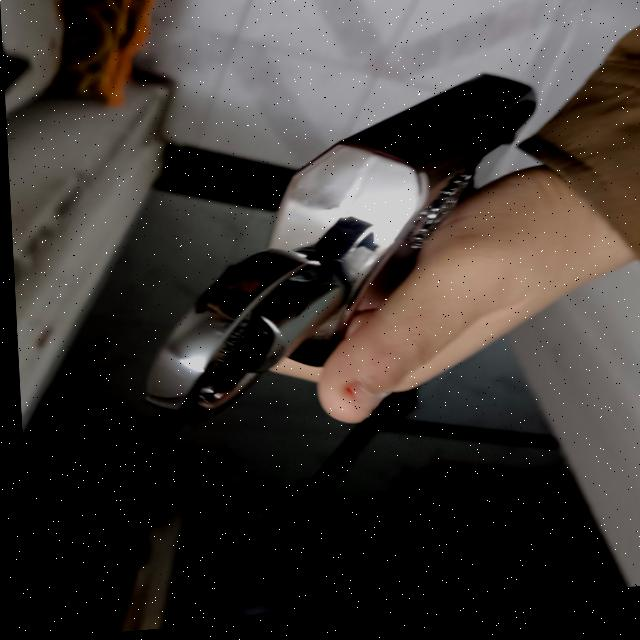Afnan: (128, 78, 549, 432)
